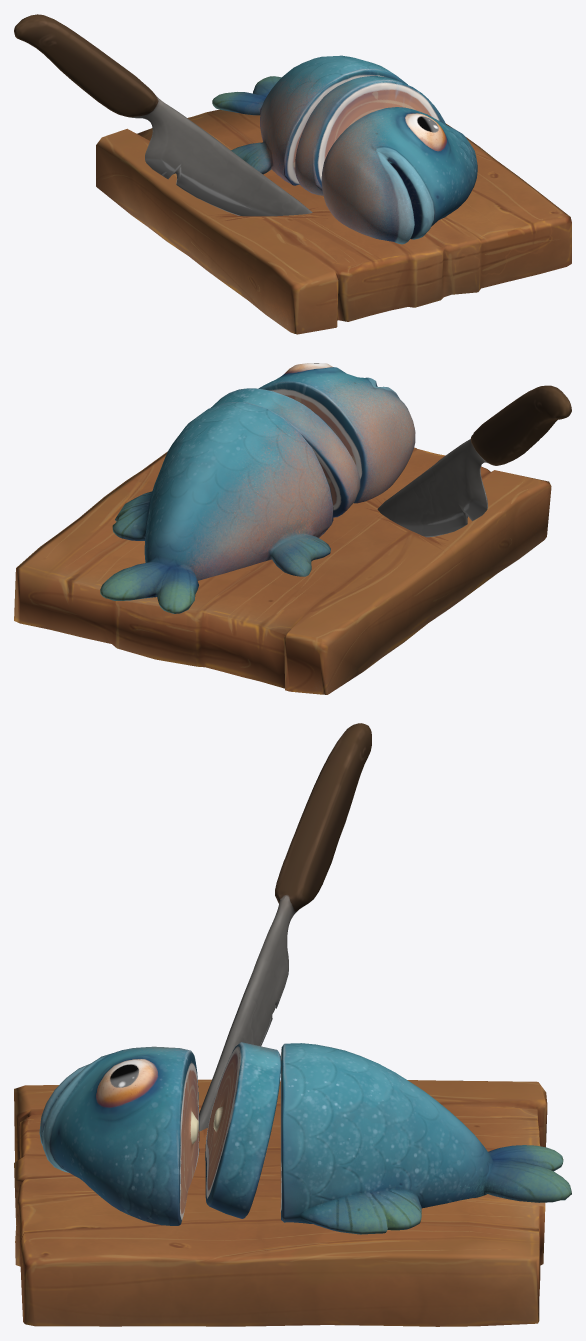
File: cut_fish.glb
The picture shows the model from 3 angles, top to bottom: view 1: azimuth 30°, elevation 25°; view 2: azimuth 150°, elevation 25°; view 3: azimuth 270°, elevation 25°; orthographic projection. The views are drawn at different scales.
Visible parts, largest first — view 1: Object_2; view 2: Object_2; view 3: Object_2.
Boxes of the visible parts, x1,y1,x2,y2 form: Object_2: [14, 14, 571, 334]; Object_2: [14, 363, 571, 694]; Object_2: [14, 723, 571, 1326].
Size of the model in its own units: 2.91 by 1.69 by 2.49.
Materials: 1 (1 with a texture image).
